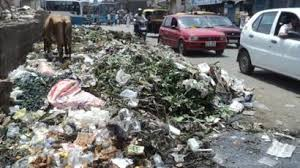garbage: (26, 61, 237, 168), (2, 78, 230, 168), (96, 44, 169, 168), (75, 27, 135, 168)
